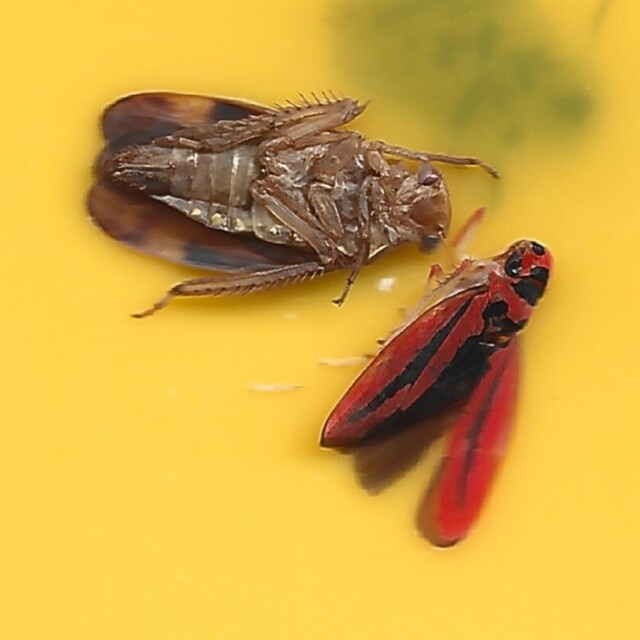Hemiptera: (87, 89, 497, 322), (322, 241, 553, 551)
